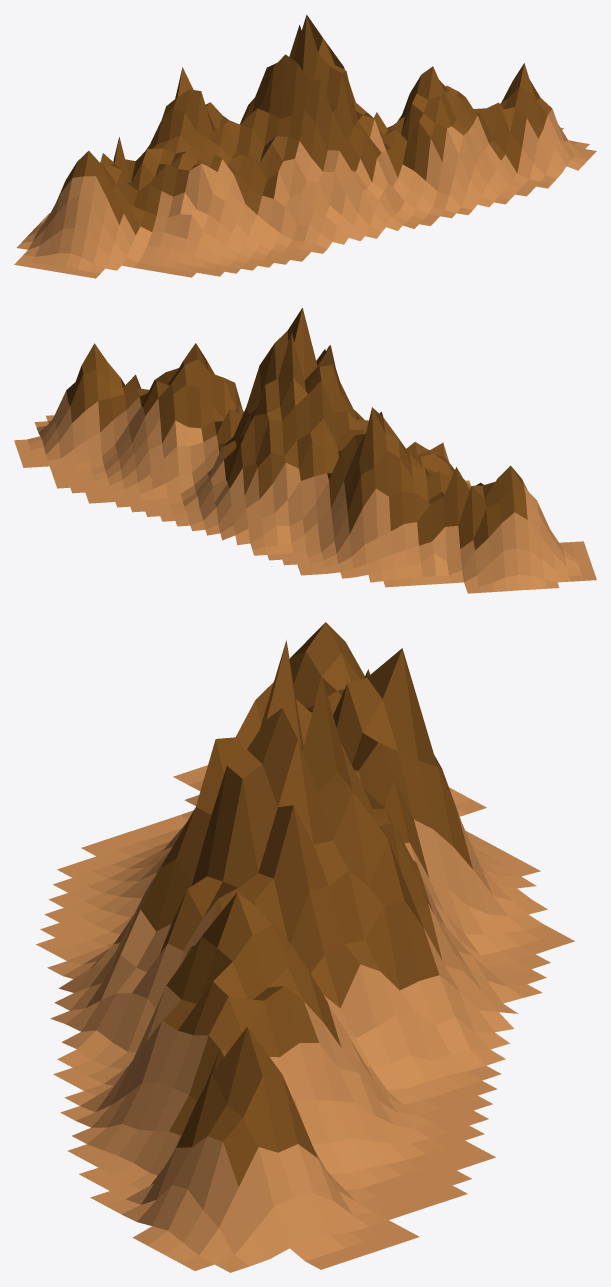
File: Montagne_1Desert.fbx
3 views of the same model, one above another, from view 1: azimuth 30°, elevation 25°; view 2: azimuth 150°, elevation 25°; view 3: azimuth 270°, elevation 25° (orthographic). The views are drawn at different scales.
Parts seen in each view (by area): view 1: Plane; view 2: Plane; view 3: Plane.
Boxes of the visible parts, x1,y1,x2,y2 form: Plane: (14,15,596,278); Plane: (14,308,596,593); Plane: (36,622,574,1272).
Size of the model in its own units: 3768 by 1200 by 1585.
